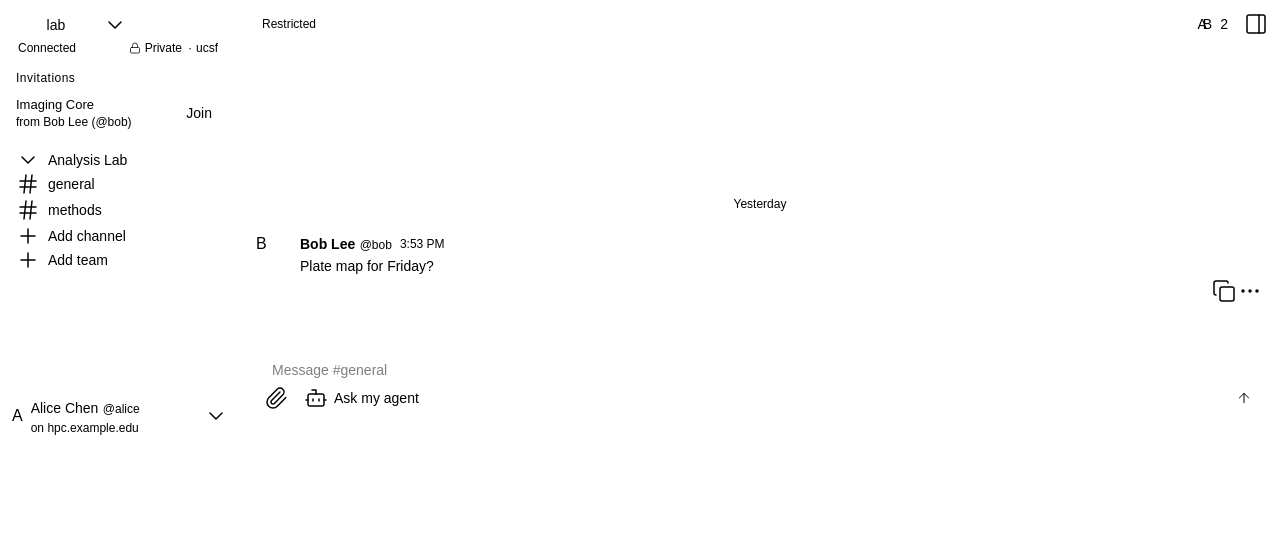
Test case: a post whose outcome is unknown (QA R-4) › says it could not confirm it once the channel was read again, and sends it again safely
Type "Did this reach you?" into the text box labelled "Message #general" at [762, 370], box [272, 354, 1252, 386]
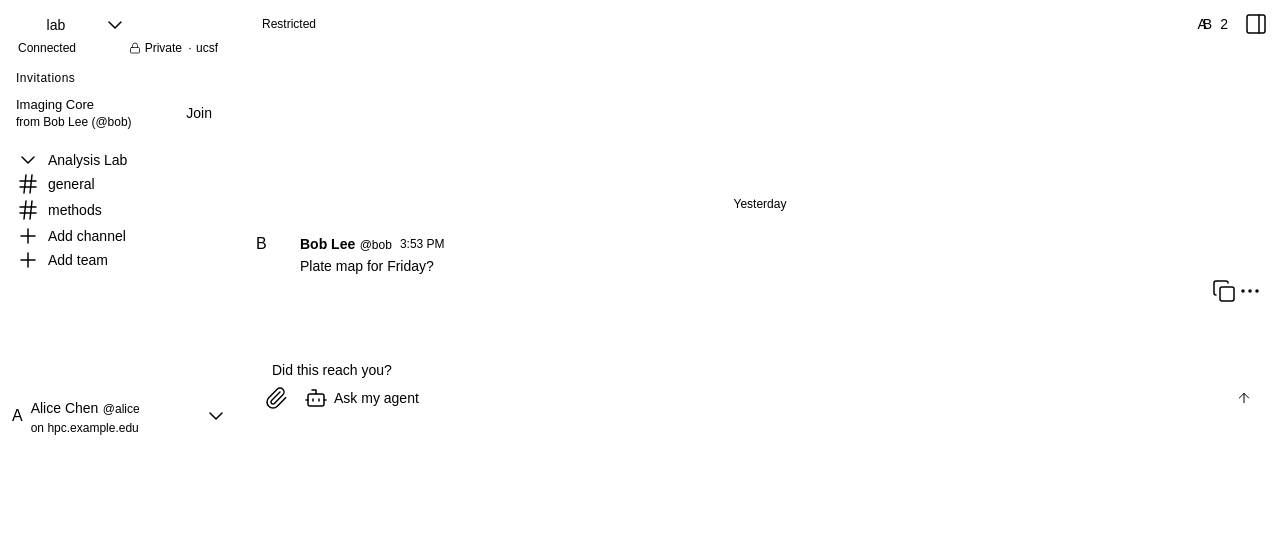
Click the button named "Send message" at [1244, 398], box [1236, 390, 1252, 406]
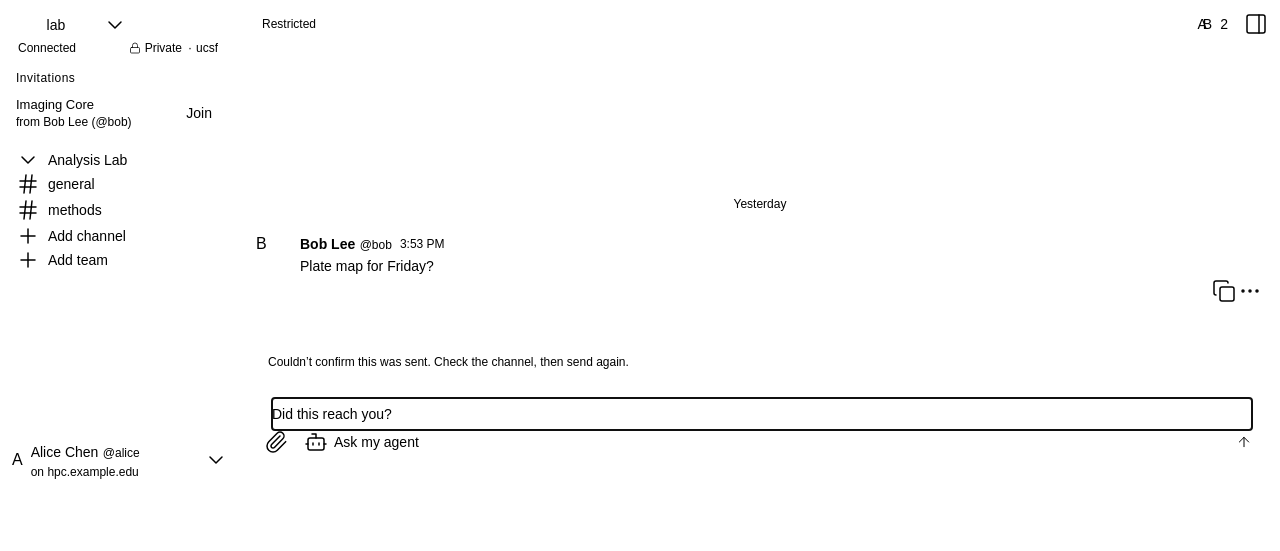
Now the text "Couldn’t confirm this was sent. Check the channel, then send again." is shown, box [268, 355, 629, 369]
Click the button named "Send message" at [1244, 442], box [1236, 434, 1252, 450]
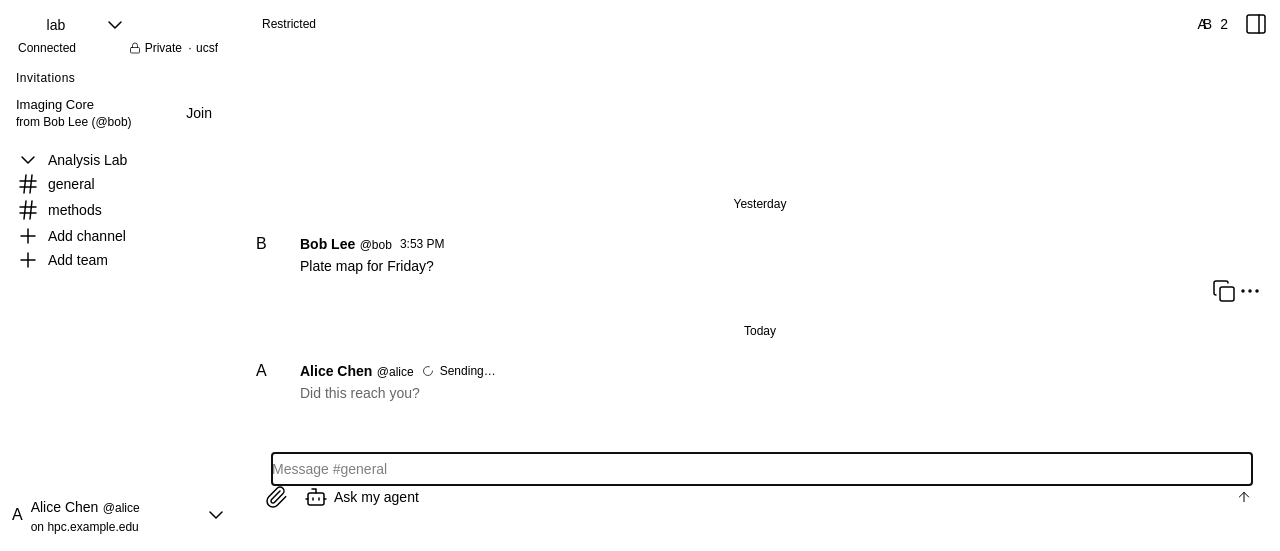
Now the text box labelled "Message #general" is empty, box [272, 453, 1252, 485]
Now the element with class "crew-pending-row" shows "Did this reach you?", box [300, 385, 420, 401]
